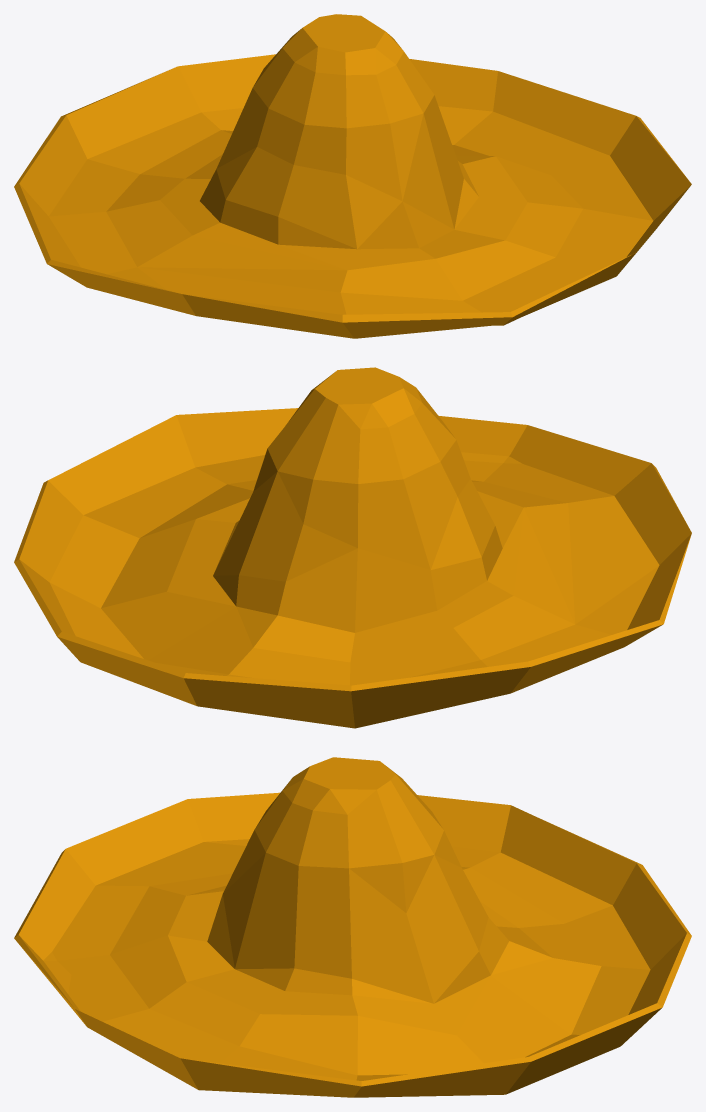
The model's file is Hat3.fbx.
3 renders of one model, top to bottom at view 1: azimuth 30°, elevation 25°; view 2: azimuth 150°, elevation 25°; view 3: azimuth 270°, elevation 25°, orthographic. The views are drawn at different scales.
Visible parts, largest first — view 1: Hat; view 2: Hat; view 3: Hat.
Part boxes in pixels (x1,y1,x2,y2): Hat: (14,14,691,338); Hat: (14,367,691,728); Hat: (14,757,691,1097).
Size of the model in its own units: 0.6801 by 0.6641 by 0.2352.
